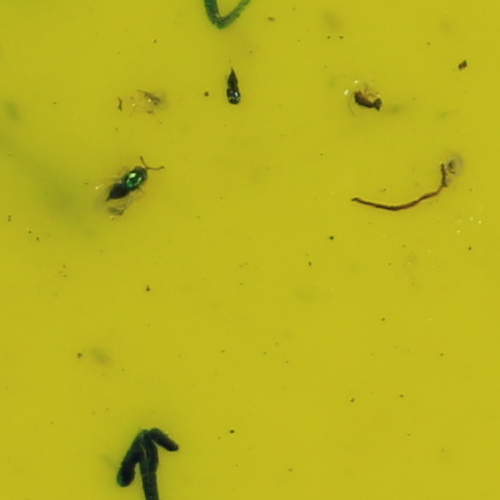wasp: (102, 162, 154, 205)
